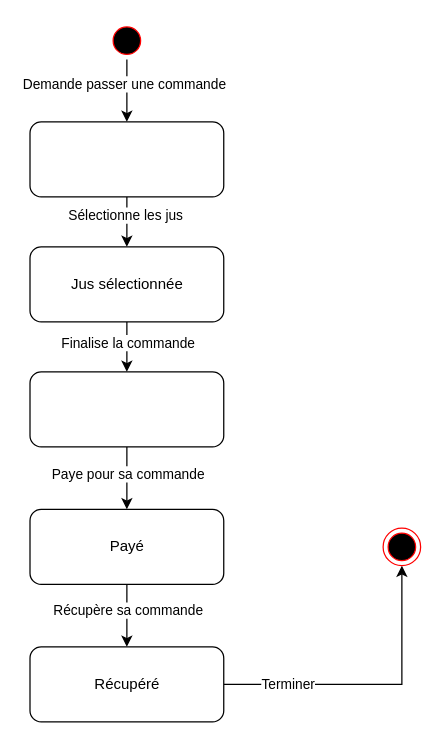
Image size: 443x744. Some labels were removed from this diagram. The centre of each missing label's shape, as x and y in pixels:
Crée: point 126,159
Finalisé: point 126,409
